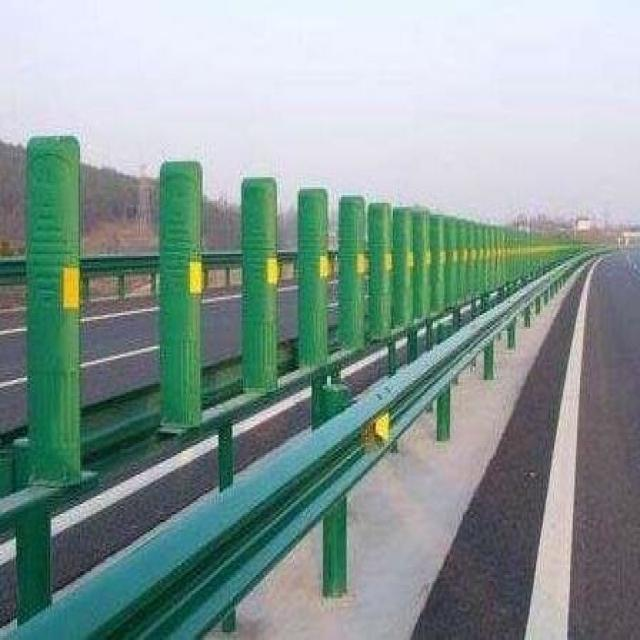Guard rail: (0, 253, 592, 639)
